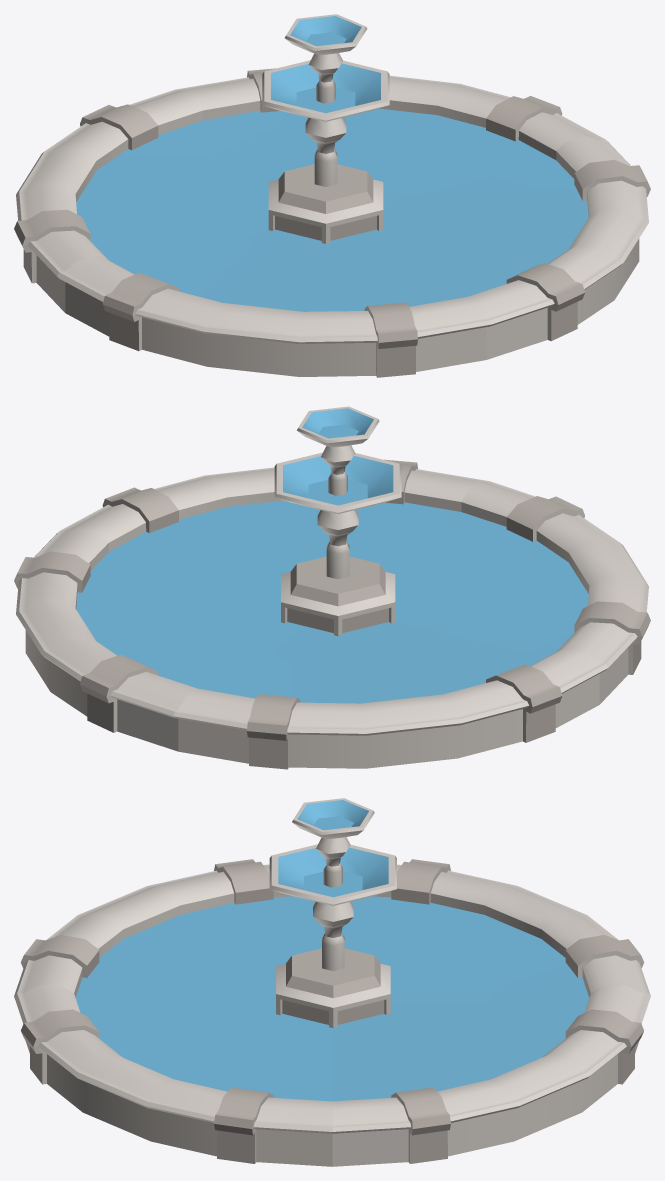
The model's file is tiered-fountain.glb.
The picture shows the model from 3 angles, top to bottom: view 1: azimuth 30°, elevation 25°; view 2: azimuth 150°, elevation 25°; view 3: azimuth 270°, elevation 25°; orthographic projection.
Parts seen in each view (by area): view 1: SM_Fountain:SM_Fountain1; view 2: SM_Fountain:SM_Fountain1; view 3: SM_Fountain:SM_Fountain1.
Part boxes in pixels (x1=…): SM_Fountain:SM_Fountain1: x1=14, y1=14, x2=650, y2=377; SM_Fountain:SM_Fountain1: x1=14, y1=406, x2=650, y2=769; SM_Fountain:SM_Fountain1: x1=14, y1=798, x2=650, y2=1166.
Bounding box in the file's own units: 1.4 × 0.5337 × 1.4.
